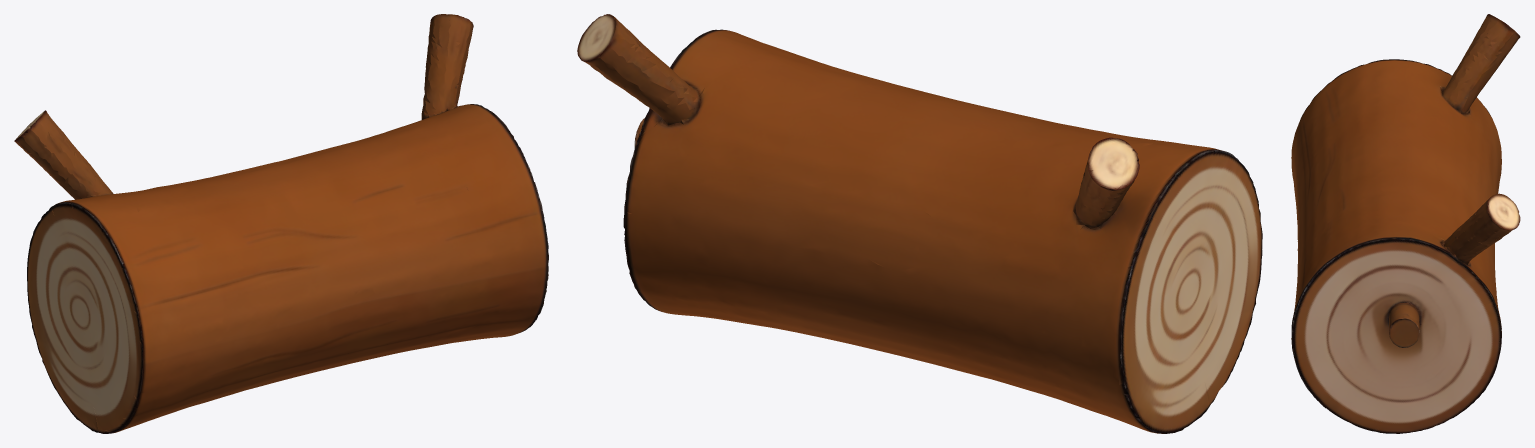
The model's file is wood_log.glb.
3 views of the same model, side by side, from view 1: azimuth 30°, elevation 25°; view 2: azimuth 150°, elevation 25°; view 3: azimuth 270°, elevation 25° (orthographic). The views are drawn at different scales.
Visible parts, largest first — view 1: wood_log; view 2: wood_log; view 3: wood_log.
Part boxes in pixels (box(x1,y1,x2,y2)): wood_log: box(14, 14, 548, 433); wood_log: box(577, 14, 1262, 433); wood_log: box(1291, 14, 1520, 433).
Bounding box in the file's own units: 1 × 0.5694 × 0.4817.
1 material, 1 textured.
